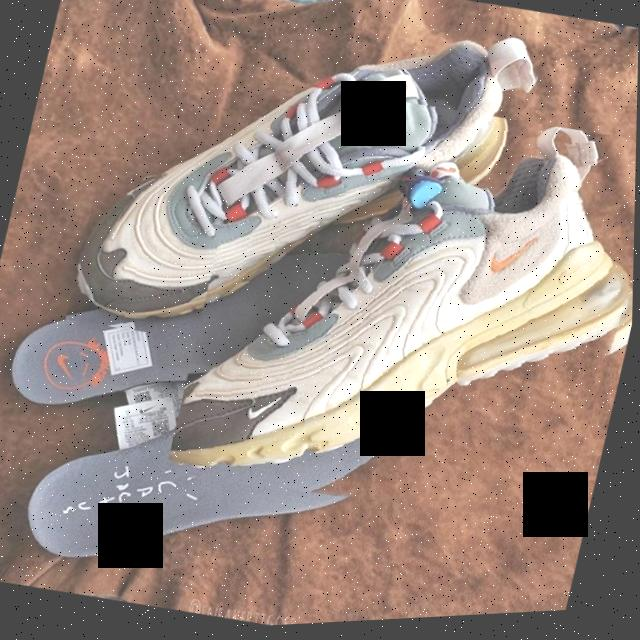shoe: (165, 65, 638, 566), (65, 0, 549, 405)
